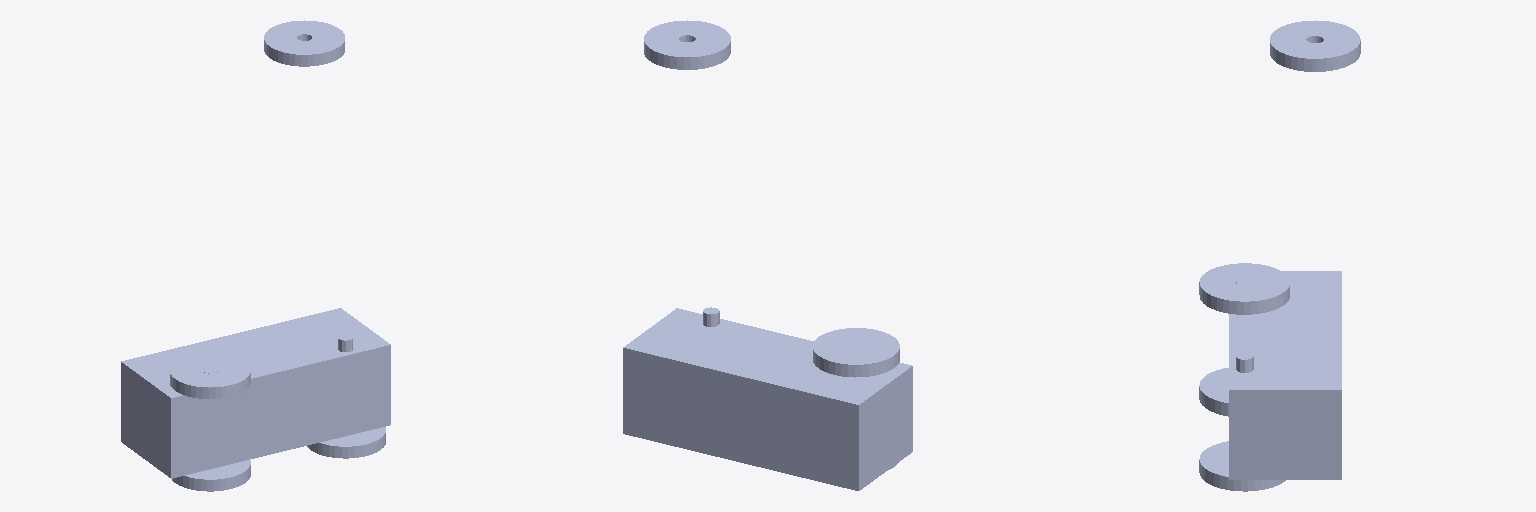
robot.urdf — lunabotics_sim_v1_description:
<?xml version="1.0" encoding="utf-8"?>
<!-- This URDF was automatically created by SolidWorks to URDF Exporter! Originally created by [author] ([email redacted]) 
     Commit Version: 1.6.0-1-g15f4949  Build Version: 1.6.7594.29634
     For more information, please see http://wiki.ros.org/sw_urdf_exporter -->
<robot
  name="lunabotics_sim_v1_description">
  <link
    name="base_link">
    <inertial>
      <origin
        xyz="7.39240045517509E-05 0.0517600742706282 5.55111512312578E-17"
        rpy="0 0 0" />
      <mass
        value="135.196151840977" />
      <inertia
        ixx="3.11043705676029"
        ixy="0.00141678433850962"
        ixz="-4.58392598383754E-16"
        iyy="12.4167175028441"
        iyz="-1.28316830833194E-16"
        izz="12.7920855454064" />
    </inertial>
    <visual>
      <origin
        xyz="0 0 0"
        rpy="0 0 0" />
      <geometry>
        <mesh
          filename="package://lunabotics_sim_v1_description/meshes/base_link.STL" />
      </geometry>
      <material
        name="">
        <color
          rgba="0.792156862745098 0.819607843137255 0.933333333333333 1" />
      </material>
    </visual>
    <collision>
      <origin
        xyz="0 0 0"
        rpy="0 0 0" />
      <geometry>
        <mesh
          filename="package://lunabotics_sim_v1_description/meshes/base_link.STL" />
      </geometry>
    </collision>
  </link>
  <link
    name="wheel_1">
    <inertial>
      <origin
        xyz="0.0550851315744754 -0.243017760094714 1.17426273081701"
        rpy="0 0 0" />
      <mass
        value="3.87263639146993" />
      <inertia
        ixx="0.0261687361227211"
        ixy="0"
        ixz="-4.89900971786433E-20"
        iyy="0.0261687361227211"
        iyz="-1.68220364120574E-21"
        izz="0.0506718255158951" />
    </inertial>
    <visual>
      <origin
        xyz="0 0 0"
        rpy="0 0 0" />
      <geometry>
        <mesh
          filename="package://lunabotics_sim_v1_description/meshes/wheel_1.STL" />
      </geometry>
      <material
        name="">
        <color
          rgba="0.792156862745098 0.819607843137255 0.933333333333333 1" />
      </material>
    </visual>
    <collision>
      <origin
        xyz="0 0 0"
        rpy="0 0 0" />
      <geometry>
        <mesh
          filename="package://lunabotics_sim_v1_description/meshes/wheel_1.STL" />
      </geometry>
    </collision>
  </link>
  <joint
    name="wheel_1"
    type="continuous">
    <origin
      xyz="0.2788 0.15558 0.97581"
      rpy="3.1416 0 -2.7485" />
    <parent
      link="base_link" />
    <child
      link="wheel_1" />
    <axis
      xyz="0 0 1" />
  </joint>
  <link
    name="wheel_2">
    <inertial>
      <origin
        xyz="0.0422040323510975 -0.245582619693122 -1.17426273081701"
        rpy="0 0 0" />
      <mass
        value="3.87263639146993" />
      <inertia
        ixx="0.0261687361227211"
        ixy="5.84329633503276E-34"
        ixz="2.3134878028702E-35"
        iyy="0.0261687361227211"
        iyz="-4.23177966296023E-35"
        izz="0.0506718255158951" />
    </inertial>
    <visual>
      <origin
        xyz="0 0 0"
        rpy="0 0 0" />
      <geometry>
        <mesh
          filename="package://lunabotics_sim_v1_description/meshes/wheel_2.STL" />
      </geometry>
      <material
        name="">
        <color
          rgba="0.792156862745098 0.819607843137255 0.933333333333333 1" />
      </material>
    </visual>
    <collision>
      <origin
        xyz="0 0 0"
        rpy="0 0 0" />
      <geometry>
        <mesh
          filename="package://lunabotics_sim_v1_description/meshes/wheel_2.STL" />
      </geometry>
    </collision>
  </link>
  <joint
    name="wheel_2"
    type="continuous">
    <origin
      xyz="-0.3303 0.15558 0.97581"
      rpy="0 0 0" />
    <parent
      link="base_link" />
    <child
      link="wheel_2" />
    <axis
      xyz="0 0 1" />
  </joint>
  <link
    name="wheel_3">
    <inertial>
      <origin
        xyz="0.0422040323510976 -0.245582619693122 -1.17426273081701"
        rpy="0 0 0" />
      <mass
        value="3.87263639146993" />
      <inertia
        ixx="0.0261687361227212"
        ixy="5.84329633503277E-34"
        ixz="2.17073152511397E-35"
        iyy="0.0261687361227212"
        iyz="3.52648305246686E-35"
        izz="0.0506718255158952" />
    </inertial>
    <visual>
      <origin
        xyz="0 0 0"
        rpy="0 0 0" />
      <geometry>
        <mesh
          filename="package://lunabotics_sim_v1_description/meshes/wheel_3.STL" />
      </geometry>
      <material
        name="">
        <color
          rgba="0.792156862745098 0.819607843137255 0.933333333333333 1" />
      </material>
    </visual>
    <collision>
      <origin
        xyz="0 0 0"
        rpy="0 0 0" />
      <geometry>
        <mesh
          filename="package://lunabotics_sim_v1_description/meshes/wheel_3.STL" />
      </geometry>
    </collision>
  </link>
  <joint
    name="wheel_3"
    type="continuous">
    <origin
      xyz="0.2788 0.15558 1.3727"
      rpy="0 0 0" />
    <parent
      link="base_link" />
    <child
      link="wheel_3" />
    <axis
      xyz="0 0 1" />
  </joint>
  <link
    name="wheel_4">
    <inertial>
      <origin
        xyz="-0.156040762782064 0.194276307851526 -1.17426273081701"
        rpy="0 0 0" />
      <mass
        value="3.87263639146993" />
      <inertia
        ixx="0.0261687361227211"
        ixy="0"
        ixz="-3.65615129935673E-19"
        iyy="0.0261687361227212"
        iyz="-9.78544730137265E-20"
        izz="0.0506718255158951" />
    </inertial>
    <visual>
      <origin
        xyz="0 0 0"
        rpy="0 0 0" />
      <geometry>
        <mesh
          filename="package://lunabotics_sim_v1_description/meshes/wheel_4.STL" />
      </geometry>
      <material
        name="">
        <color
          rgba="0.792156862745098 0.819607843137255 0.933333333333333 1" />
      </material>
    </visual>
    <collision>
      <origin
        xyz="0 0 0"
        rpy="0 0 0" />
      <geometry>
        <mesh
          filename="package://lunabotics_sim_v1_description/meshes/wheel_4.STL" />
      </geometry>
    </collision>
  </link>
  <joint
    name="wheel_4"
    type="continuous">
    <origin
      xyz="-0.3303 0.15558 1.3727"
      rpy="0 0 2.6351" />
    <parent
      link="base_link" />
    <child
      link="wheel_4" />
    <axis
      xyz="0 0 1" />
  </joint>
</robot>

--- Render facts (derived) ---
3 views of the same robot in one strip: view 1: azimuth 30°, elevation 25°; view 2: azimuth 150°, elevation 25°; view 3: azimuth 270°, elevation 25° (orthographic).
Robot: lunabotics_sim_v1_description — 5 links, 4 joints (4 continuous); root link base_link; default pose: every joint at zero.
Links seen in each view (by area): view 1: base_link, wheel_3, wheel_4, wheel_2, wheel_1; view 2: base_link, wheel_3, wheel_4; view 3: base_link, wheel_3, wheel_4, wheel_1, wheel_2.
Boxes of the visible links, x1,y1,x2,y2 form: base_link: (121,308,390,478); wheel_3: (264,20,344,66); wheel_4: (170,353,250,398); wheel_2: (172,460,250,491); wheel_1: (307,427,385,458); base_link: (623,307,912,490); wheel_3: (644,20,730,69); wheel_4: (813,328,899,377); base_link: (1229,271,1341,479); wheel_3: (1270,20,1360,71); wheel_4: (1199,263,1289,314); wheel_1: (1199,441,1285,491); wheel_2: (1199,368,1228,416).
Size in the robot's own frame: 0.99 by 0.563 by 1.65 metres.
Meshes: 5 distinct files referenced, 5 mesh visuals loaded (5 binary STL).